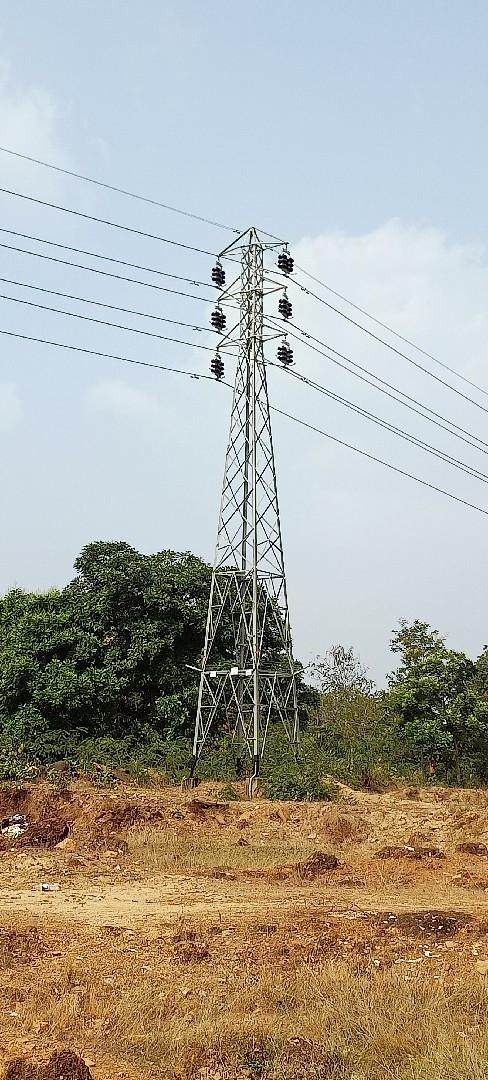GSM Antenna: (179, 223, 316, 736)
